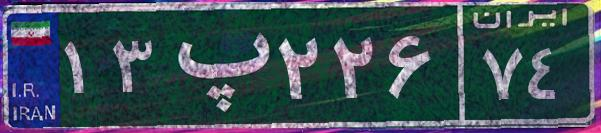1: (57, 26, 110, 107)
2: (273, 28, 330, 110), (330, 28, 385, 110)
3: (110, 28, 158, 105)
4: (525, 38, 570, 115)
6: (385, 28, 445, 110)
7: (475, 38, 525, 113)
پ: (158, 15, 273, 115)
